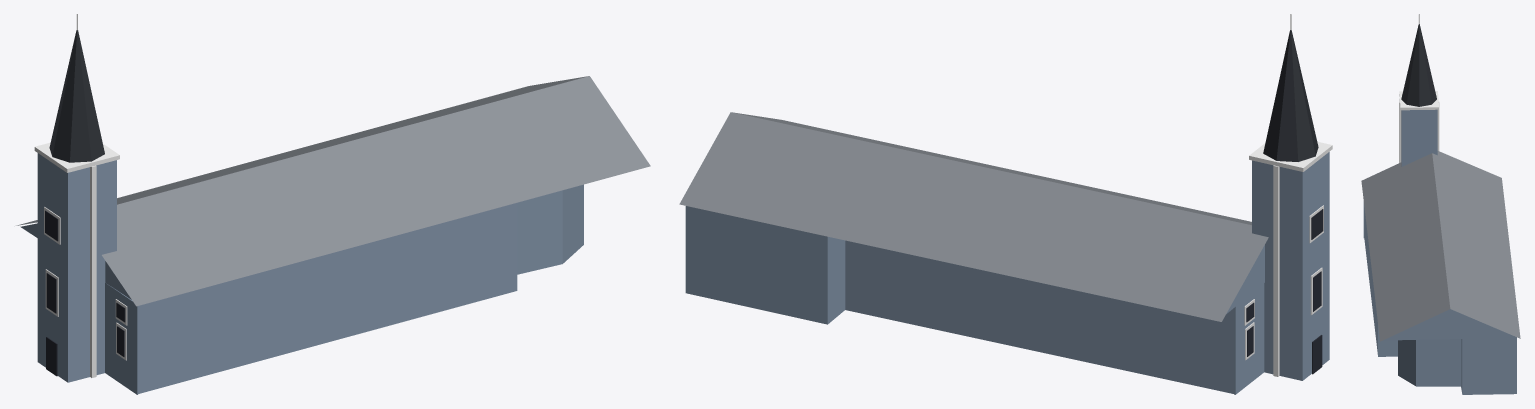
File: stann.glb
3 renders of one model, left to right at view 1: azimuth 30°, elevation 25°; view 2: azimuth 150°, elevation 25°; view 3: azimuth 270°, elevation 25°, orthographic. The views are drawn at different scales.
Visible parts, largest first — view 1: stann_lod0; view 2: stann_lod0; view 3: stann_lod0.
Boxes of the visible parts, <box> form: stann_lod0: <box>16,14,650,394</box>; stann_lod0: <box>679,14,1332,394</box>; stann_lod0: <box>1361,14,1520,394</box>.
Size of what is drawn, in the model's own units: 59.36 by 35 by 23.05.
